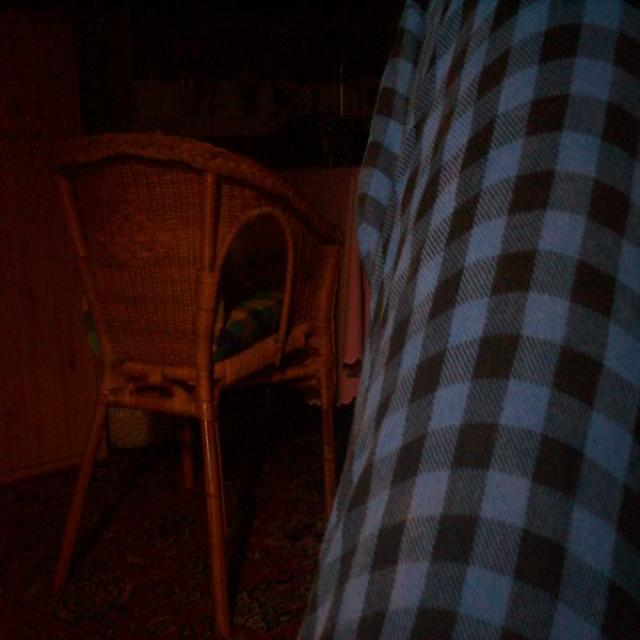People: (363, 0, 640, 640)
chair: (0, 134, 362, 630)
